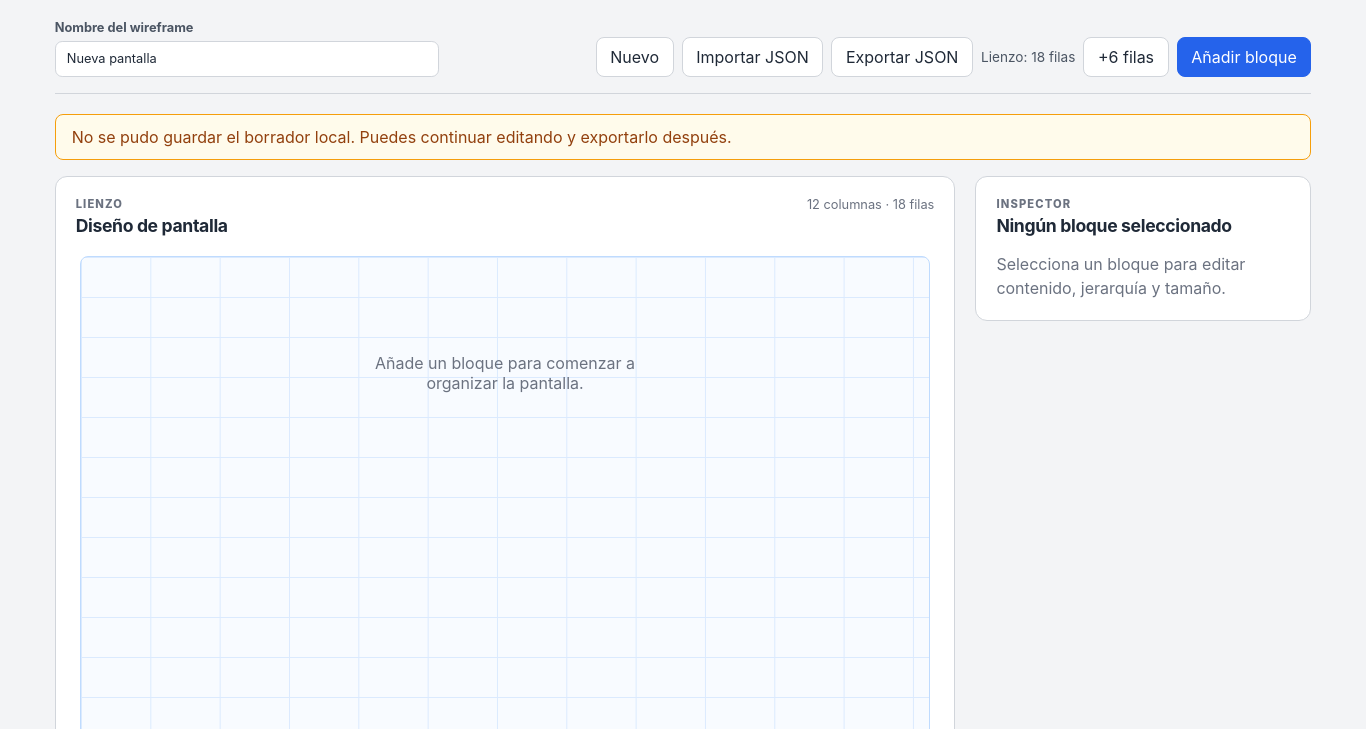
Scenario: App › continues editing without localStorage and clears the warning when saving recovers
Expected: the message shows "No se pudo guardar", [72,127,732,147]
Click the button "Añadir bloque". click: (1244, 57)
box: [1177,37,1311,77]
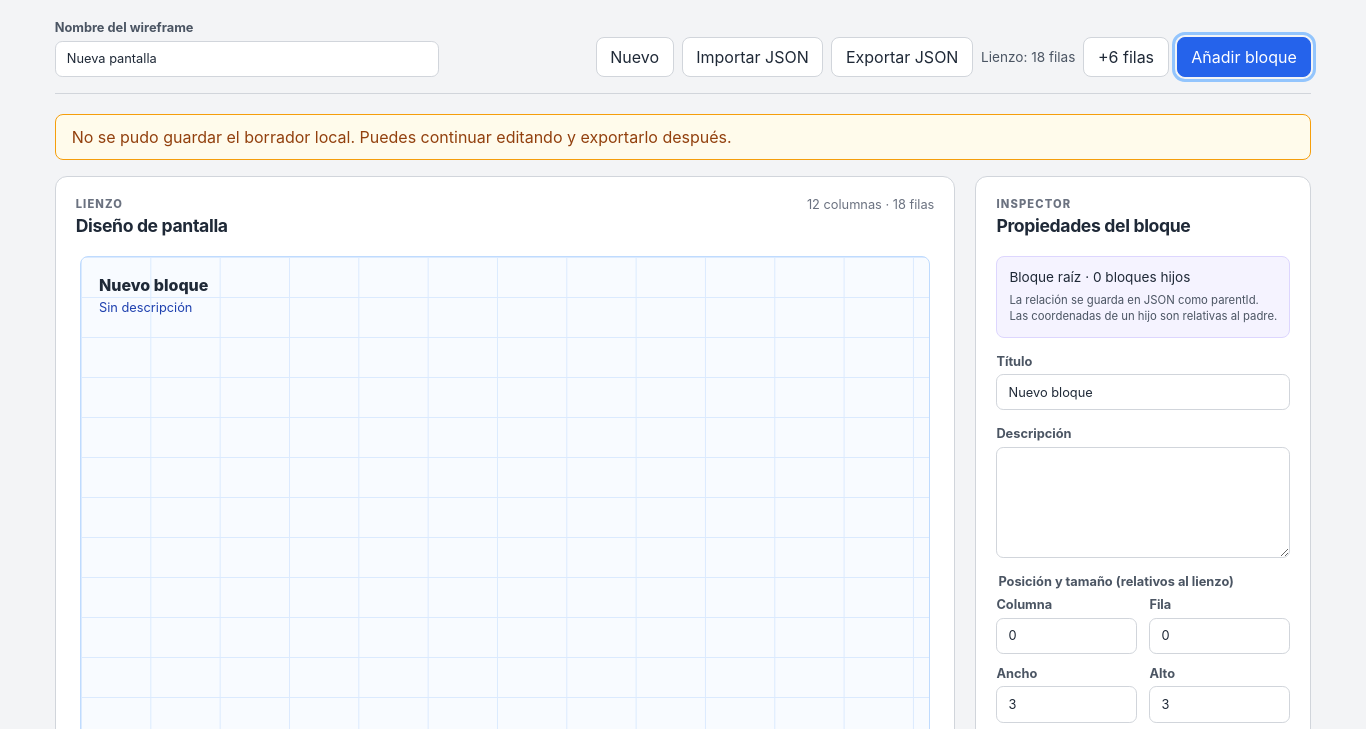
Now the button "Nuevo bloque Sin descripción" is shown, box [99,275,208,315]
Clear the field labelled "Título". click: (1143, 392)
box: [996,374,1290,410]
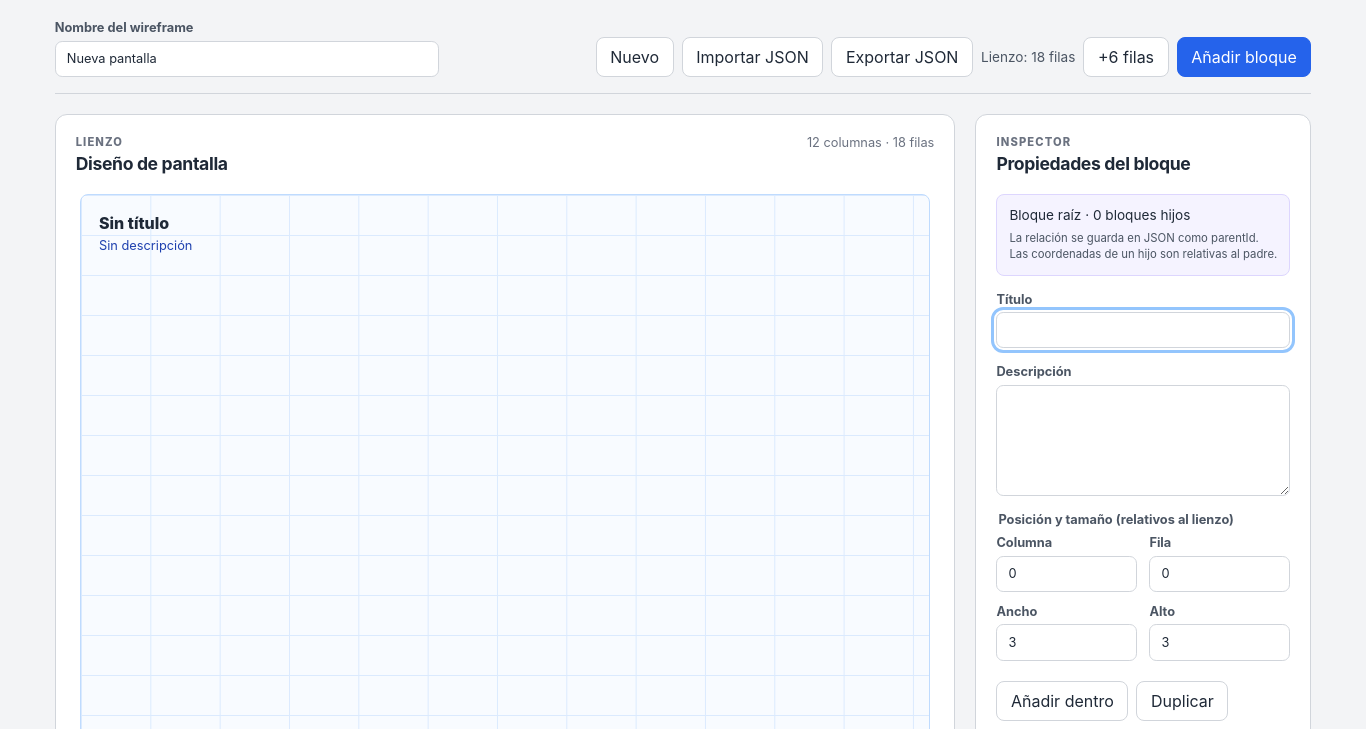
Type "Guardado tras recuperar" into the field labelled "Título". click: (1143, 330)
box: [996,312,1290,348]
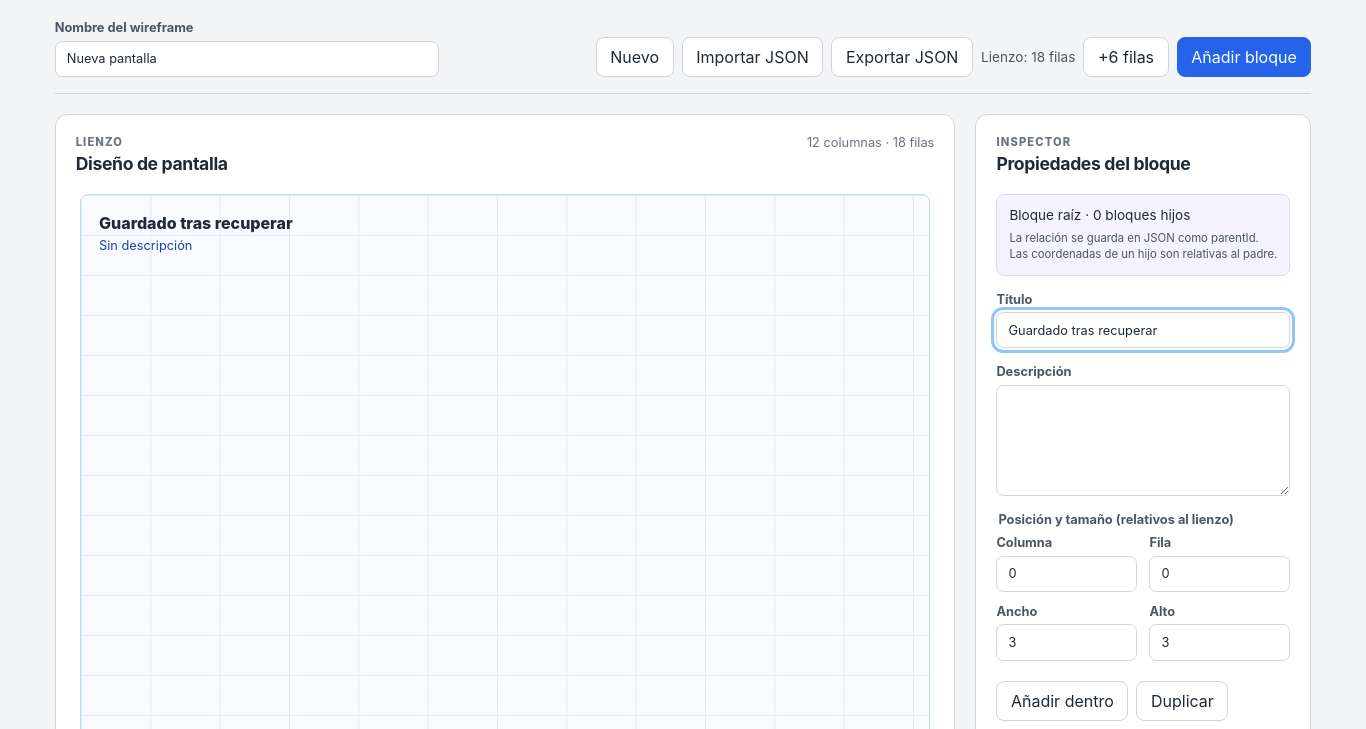
Now the text "Guardado tras recuperar" is shown, box [99,213,293,233]
